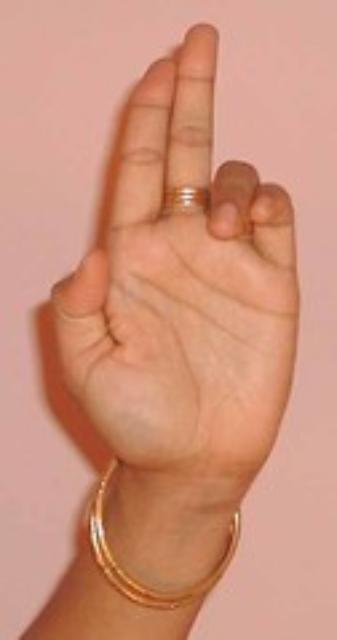ardhpataka: (48, 20, 322, 558)
